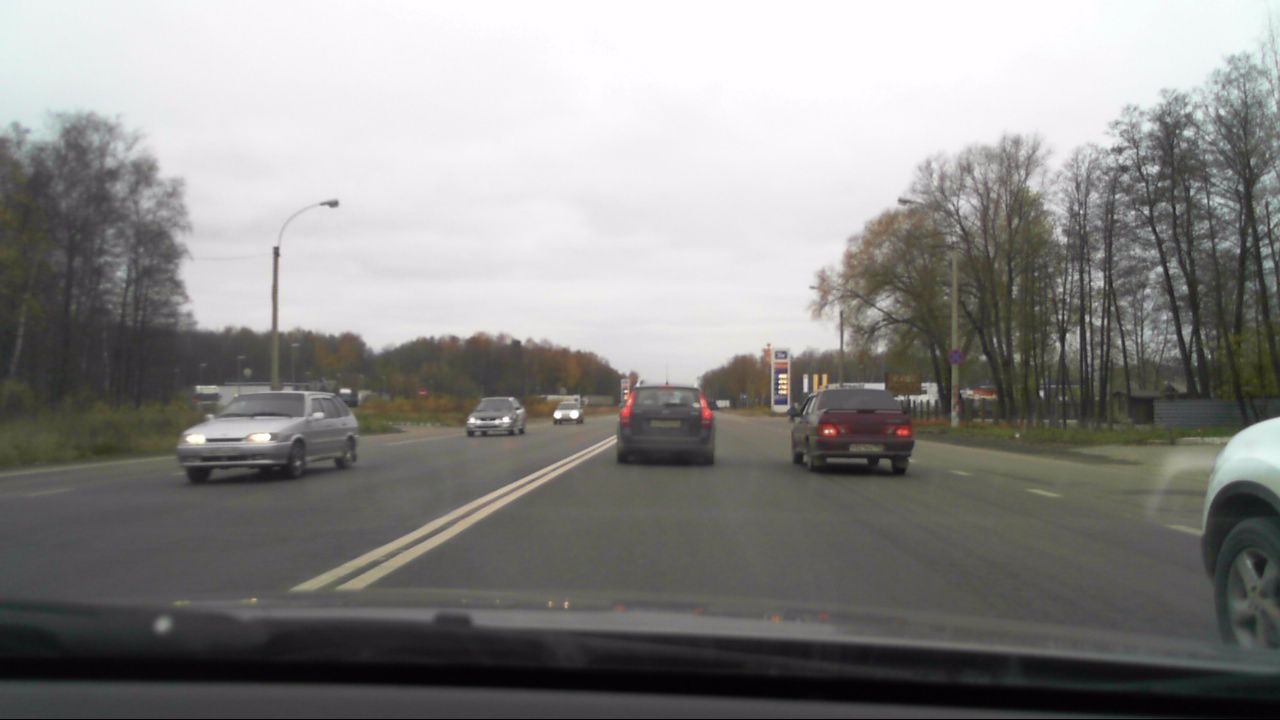No Parking: (944, 346, 966, 365)
